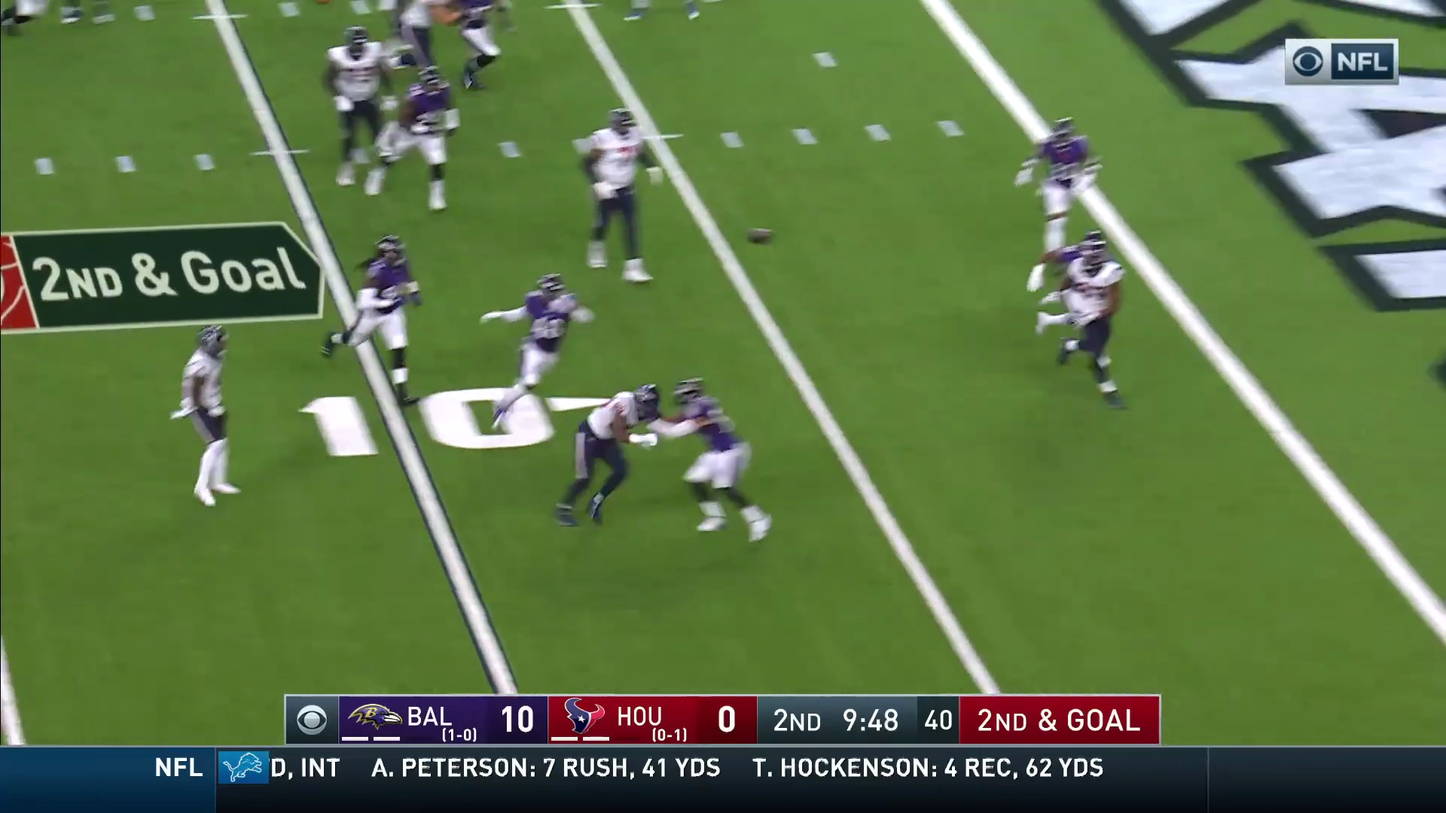Player: (575, 110, 650, 281), (1054, 232, 1122, 405), (350, 236, 417, 384), (326, 26, 383, 187), (400, 65, 459, 207), (457, 1, 502, 88)
